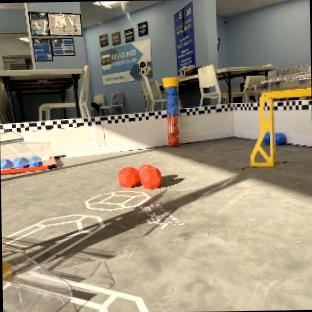Goal: (250, 65, 311, 166)
Parking-R: (0, 159, 54, 173)
V5_BLUE: (275, 132, 284, 144), (263, 133, 269, 141)
V5_RED: (118, 164, 160, 188), (167, 114, 178, 145)
